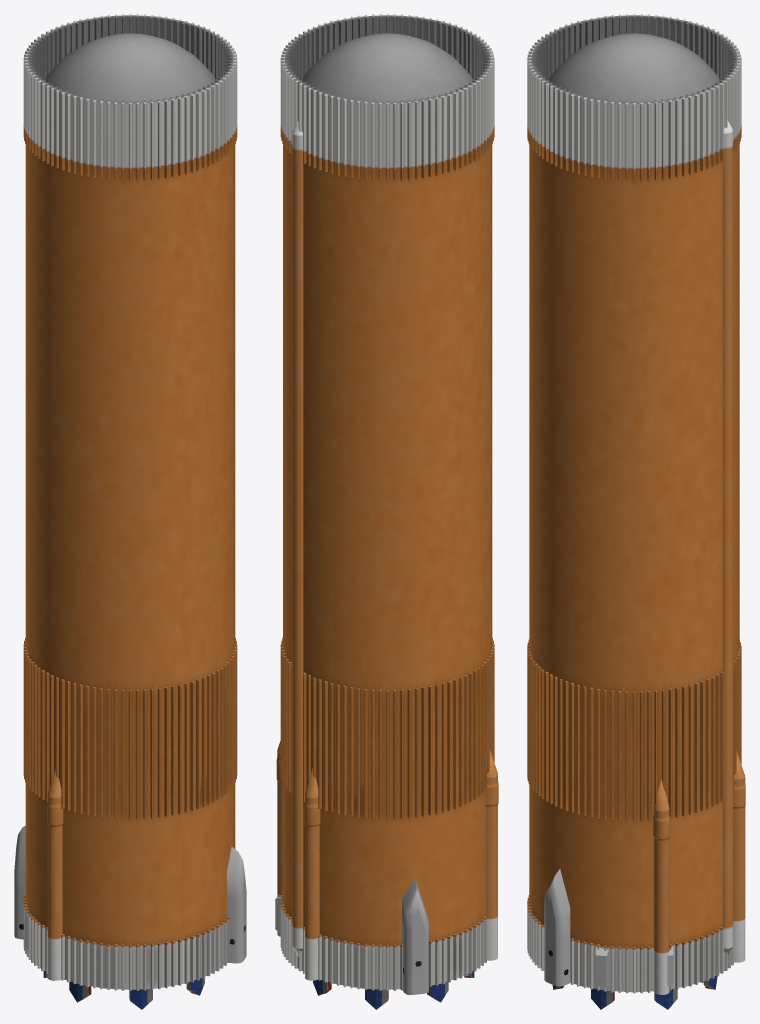
The model's file is ksprocket.fbx.
The picture shows the model from 3 angles, left to right: view 1: azimuth 30°, elevation 25°; view 2: azimuth 150°, elevation 25°; view 3: azimuth 270°, elevation 25°; orthographic projection.
Visible parts, largest first — view 1: tank.008, bits.008; view 2: tank.008, bits.008; view 3: tank.008, bits.008.
Boxes of the visible parts, x1=… form: tank.008: x1=23, y1=14, x2=237, y2=990; bits.008: x1=14, y1=15, x2=246, y2=1009; tank.008: x1=280, y1=14, x2=494, y2=990; bits.008: x1=275, y1=15, x2=498, y2=1009; tank.008: x1=527, y1=14, x2=741, y2=993; bits.008: x1=529, y1=15, x2=745, y2=1009.
Size of the model in its own units: 890 by 4113 by 873.
